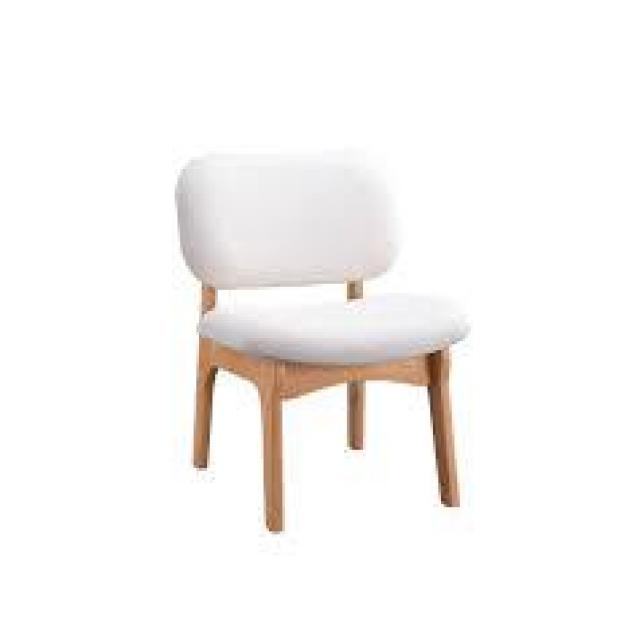chair: (126, 140, 498, 548)
